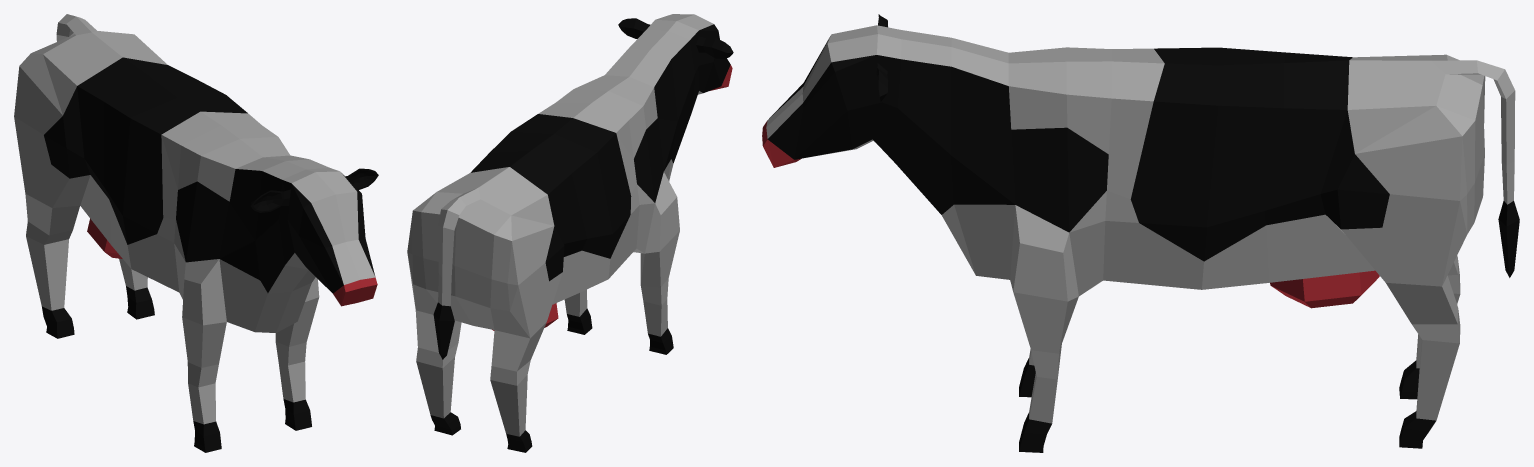
The model's file is vaca.glb.
3 views of the same model, side by side, from view 1: azimuth 30°, elevation 25°; view 2: azimuth 150°, elevation 25°; view 3: azimuth 270°, elevation 25° (orthographic). The views are drawn at different scales.
Parts seen in each view (by area): view 1: Cow_Cylinder; view 2: Cow_Cylinder; view 3: Cow_Cylinder.
Part boxes in pixels (left/top/right/bottom): Cow_Cylinder: left=14, top=14, right=378, bottom=452; Cow_Cylinder: left=407, top=14, right=733, bottom=452; Cow_Cylinder: left=762, top=14, right=1519, bottom=452.
Size of the model in its own units: 2.27 by 5.15 by 9.17.
